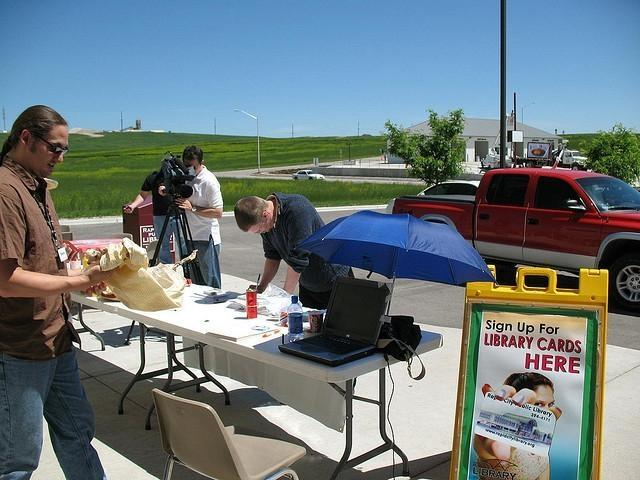car: (418, 180, 478, 199), (292, 169, 325, 180)
truck: (386, 168, 640, 318), (516, 138, 588, 172)
